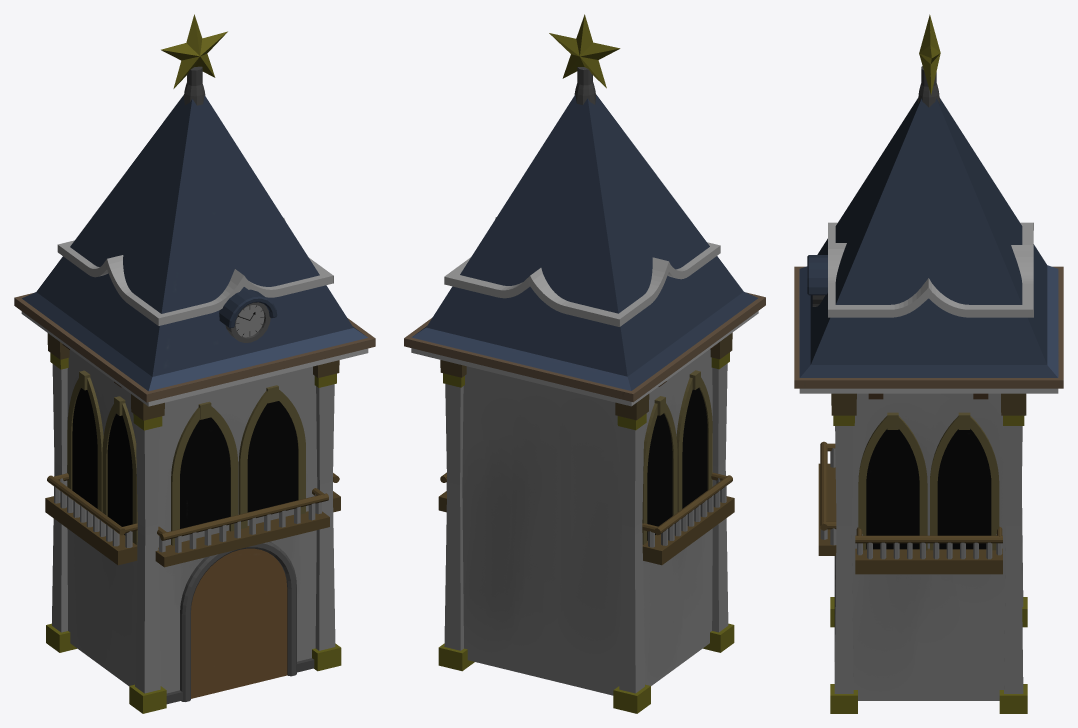
File: tower 1.fbx
The picture shows the model from 3 angles, left to right: view 1: azimuth 30°, elevation 25°; view 2: azimuth 150°, elevation 25°; view 3: azimuth 270°, elevation 25°; orthographic projection.
Parts seen in each view (by area): view 1: tower_1, pCube83, pCylinder37; view 2: tower_1, pCube83; view 3: tower_1, pCube83.
Part boxes in pixels (x1=…): tower_1: x1=14, y1=14, x2=375, y2=713; pCube83: x1=67, y1=350, x2=317, y2=693; pCylinder37: x1=235, y1=305, x2=264, y2=337; tower_1: x1=404, y1=14, x2=765, y2=713; pCube83: x1=462, y1=349, x2=712, y2=695; tower_1: x1=794, y1=14, x2=1063, y2=713; pCube83: x1=851, y1=393, x2=1005, y2=700.
Size of the model in its own units: 1.54 by 4.12 by 1.54.
